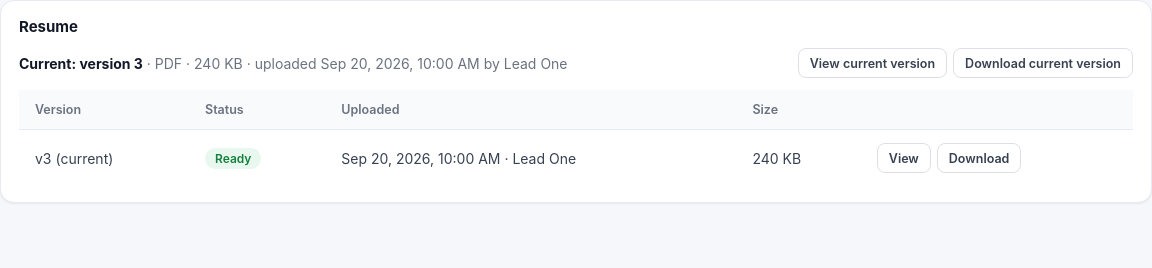
Test case: Resume section › downloads through a short-lived link from the API and announces it
The width and height of the screenshot is (1152, 268).
Click the button "Download current version" at (1043, 63), box [953,48,1133,78]
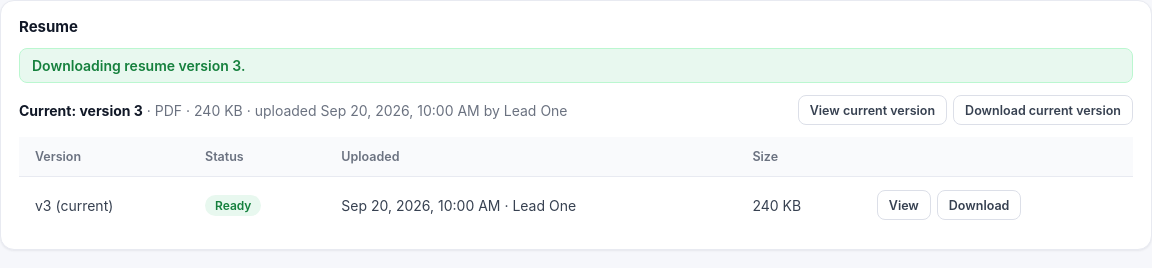
Expected: the text "Downloading resume version 3." is shown, [19,48,1133,83]
